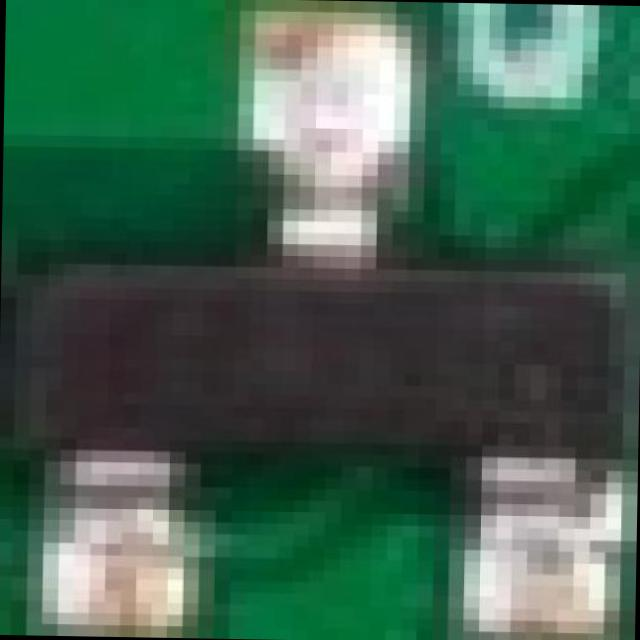transistor: (9, 175, 622, 572)
